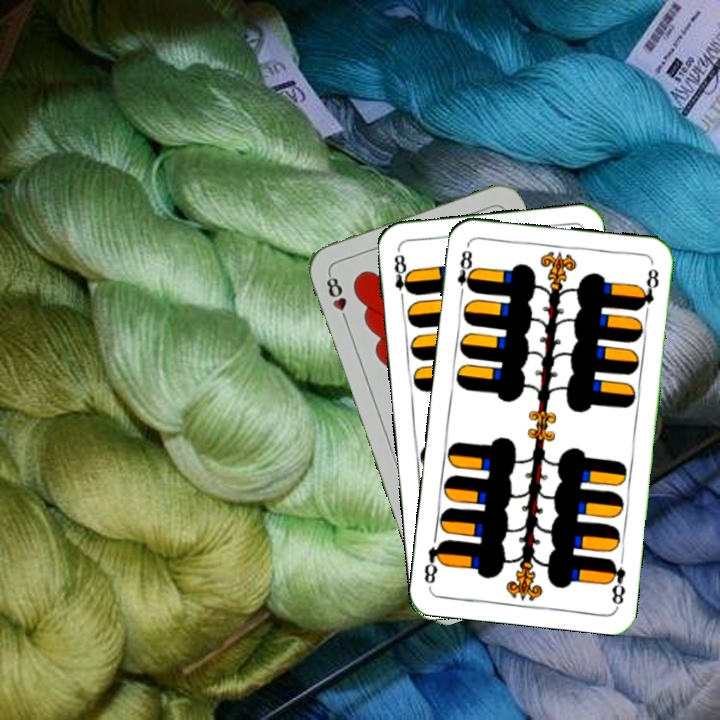E8: (390, 246, 415, 305), (453, 241, 478, 300), (604, 555, 628, 609)
H8: (322, 269, 351, 326)
